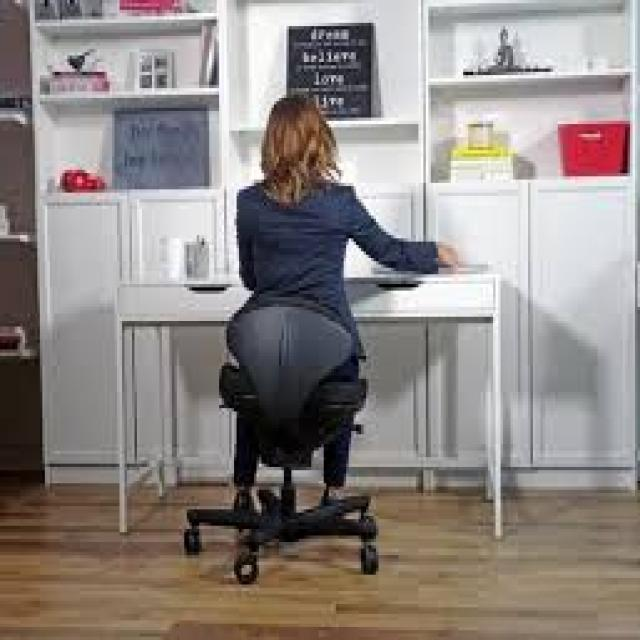nonfall: (226, 91, 392, 507)
